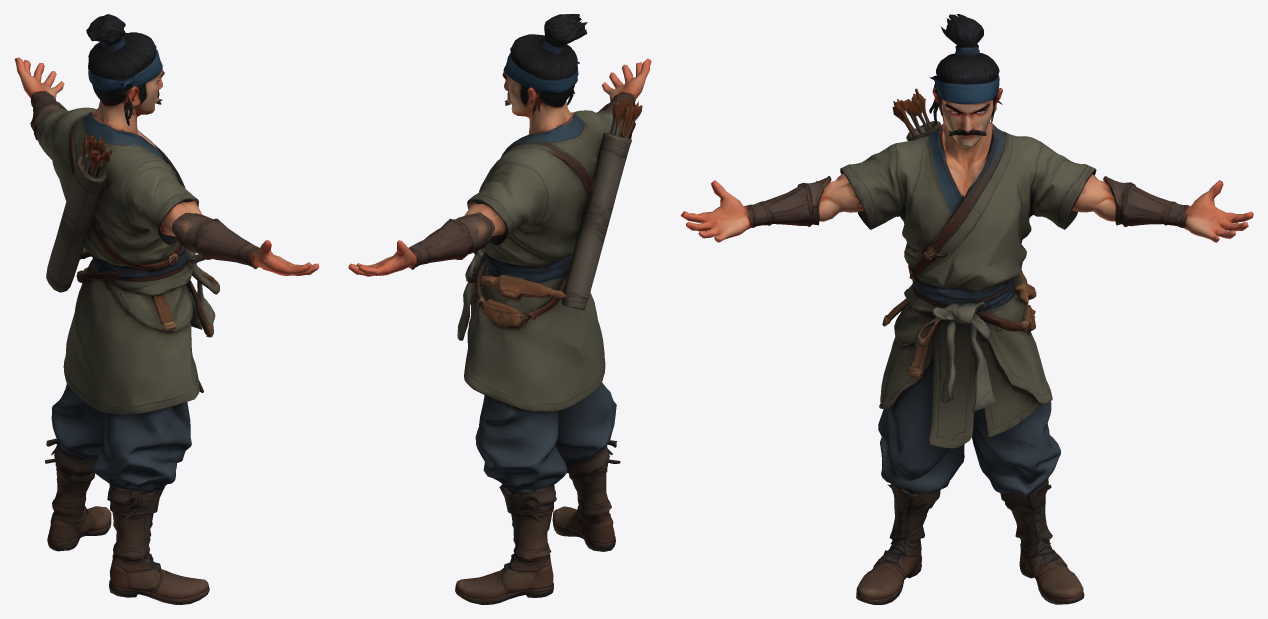
The model's file is gen_v1.glb.
3 views of the same model, side by side, from view 1: azimuth 30°, elevation 25°; view 2: azimuth 150°, elevation 25°; view 3: azimuth 270°, elevation 25° (orthographic).
Parts seen in each view (by area): view 1: tripo_node_52c3efc0-24fa-4d6b-9e75-8c504b134e89; view 2: tripo_node_52c3efc0-24fa-4d6b-9e75-8c504b134e89; view 3: tripo_node_52c3efc0-24fa-4d6b-9e75-8c504b134e89.
Part boxes in pixels (<box>): tripo_node_52c3efc0-24fa-4d6b-9e75-8c504b134e89: <box>14,14,319,604</box>; tripo_node_52c3efc0-24fa-4d6b-9e75-8c504b134e89: <box>348,14,651,604</box>; tripo_node_52c3efc0-24fa-4d6b-9e75-8c504b134e89: <box>680,14,1253,604</box>.
Bounding box in the file's own units: 0.2781 × 1 × 0.9198.
Materials: 1 (1 with a texture image).
